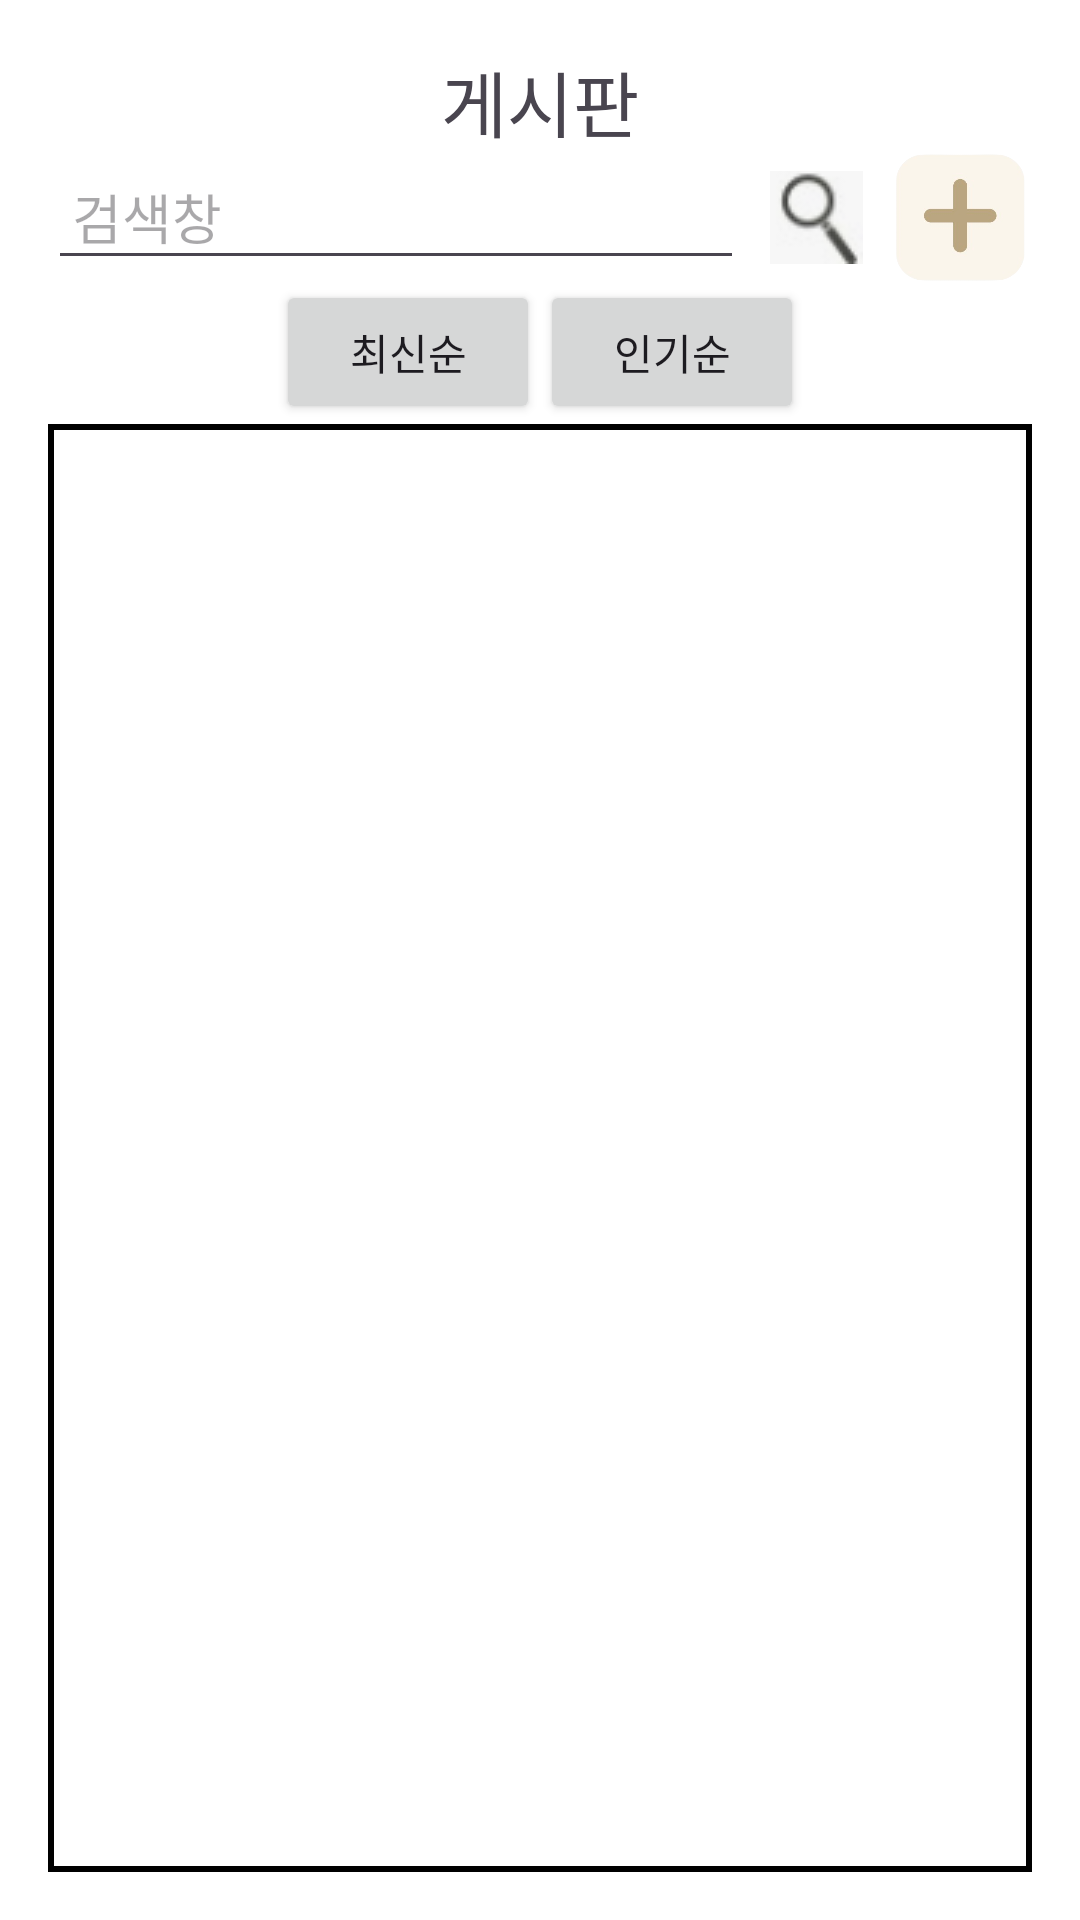

Screen size 1080w x 1920h. Icon name, then its center in pixels as (x=x, y=y):
Add: (x=960, y=217)
Search: (x=819, y=217)
